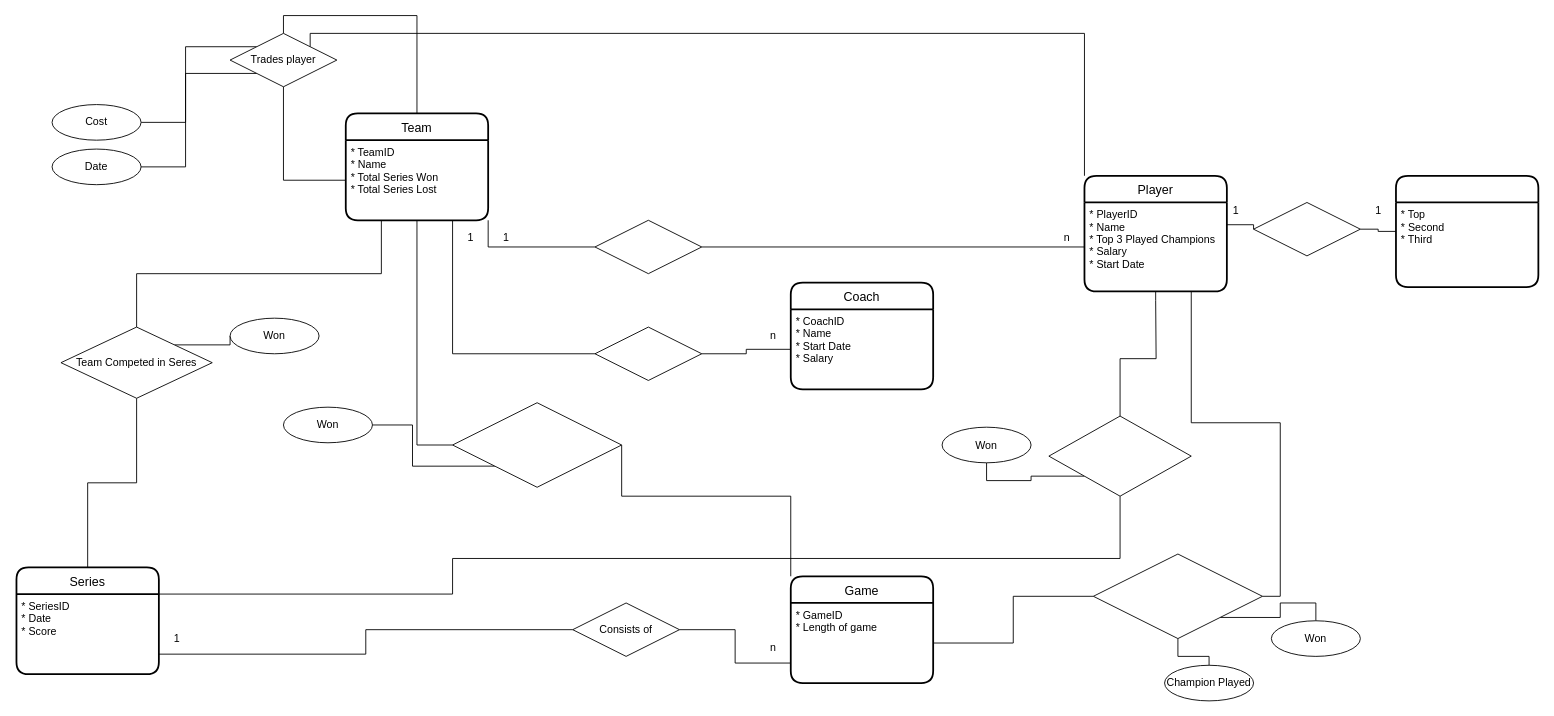
Some shapes in this 1554 by 716 pixel diagram are drawn without their labels. Each missing label, with the box of its shape:
Coaches for: (594, 326, 702, 380)
Competes for: (594, 219, 702, 274)
Has: (1253, 202, 1360, 256)
Player Competed in Game: (1092, 553, 1262, 639)
Player Competed In Series: (1048, 415, 1191, 496)
Team Competed in Game: (452, 402, 622, 487)
Top 3 Champions: (1395, 174, 1539, 287)
